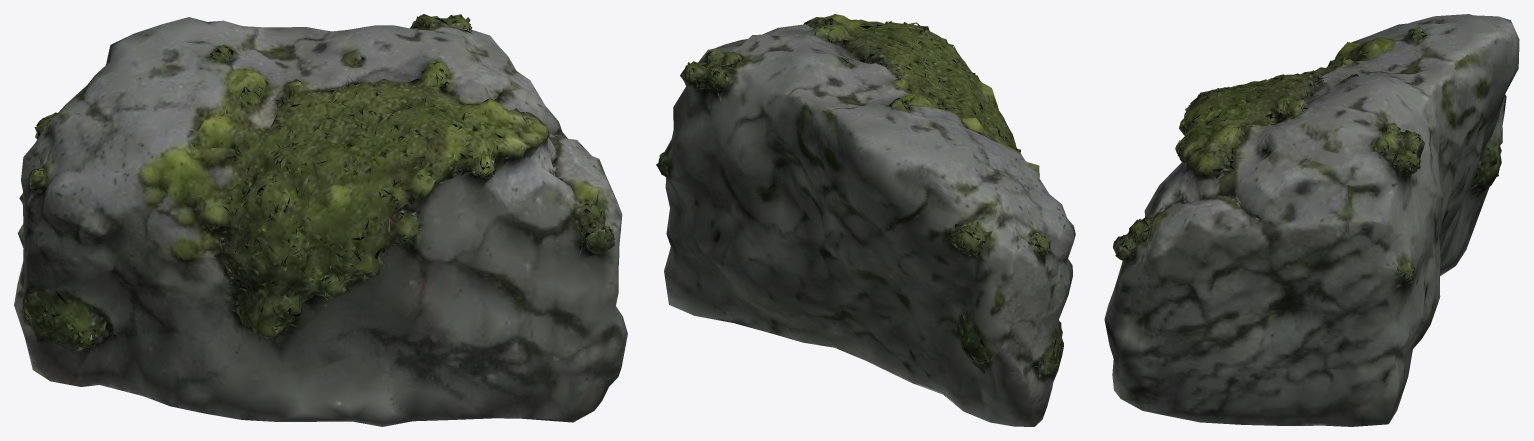
File: bigrock.glb
3 views of the same model, side by side, from view 1: azimuth 30°, elevation 25°; view 2: azimuth 150°, elevation 25°; view 3: azimuth 270°, elevation 25° (orthographic). The views are drawn at different scales.
Parts seen in each view (by area): view 1: bigrock_00; view 2: bigrock_00; view 3: bigrock_00.
Part boxes in pixels (x1=…): bigrock_00: x1=14, y1=14, x2=627, y2=426; bigrock_00: x1=656, y1=14, x2=1075, y2=426; bigrock_00: x1=1104, y1=14, x2=1519, y2=426.
Size of the model in its own units: 1.91 by 1.2 by 1.62.
1 material, 1 textured.
